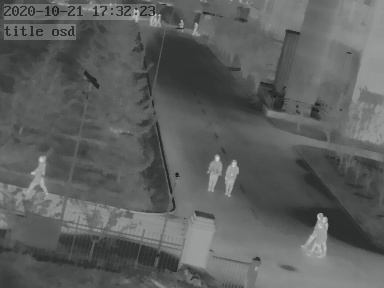person: (307, 211, 328, 257), (28, 152, 48, 195), (207, 155, 222, 193), (223, 158, 238, 196), (149, 12, 156, 27), (192, 22, 199, 36), (177, 19, 184, 33), (156, 13, 162, 27)
